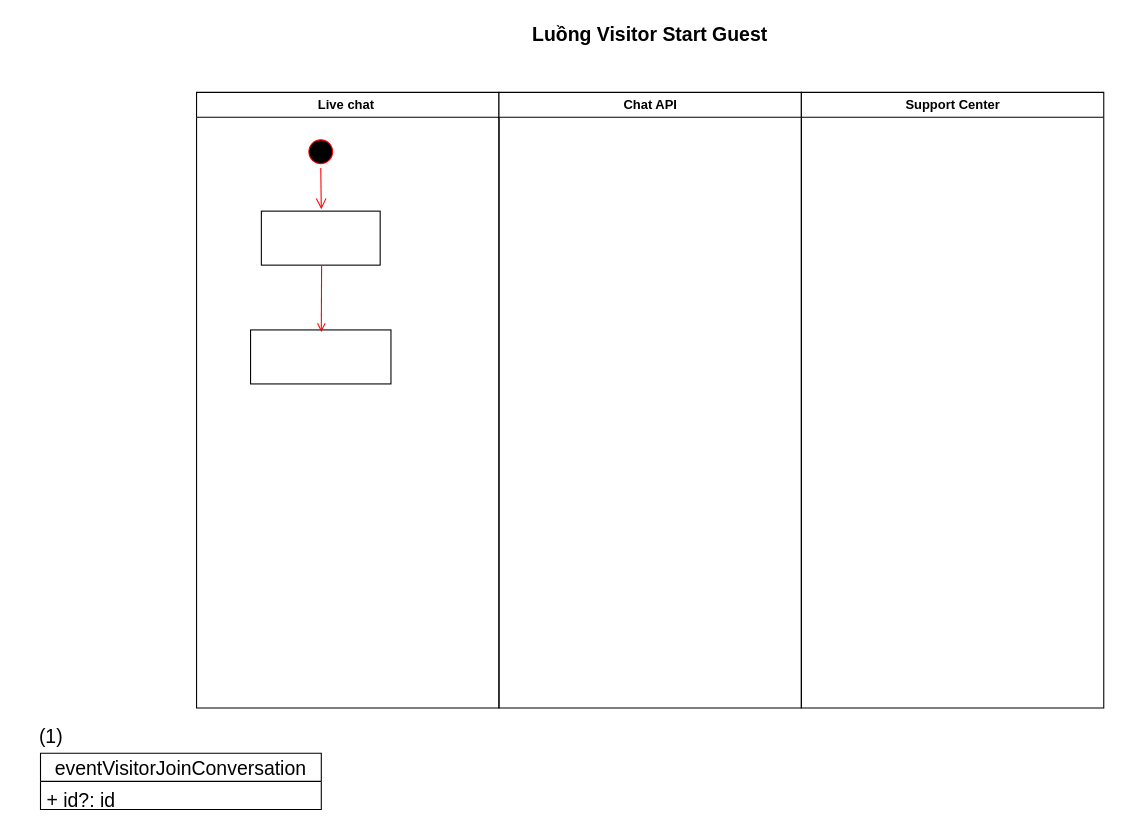
Some shapes in this 1122 by 831 pixel diagram are drawn without their labels. The centre of each missing label's shape, as x and y in pixels:
Chuyển sang trang /chat-main: the point at 320,237
Gửi sự kiện visitorJoinConversation (1): the point at 320,356
